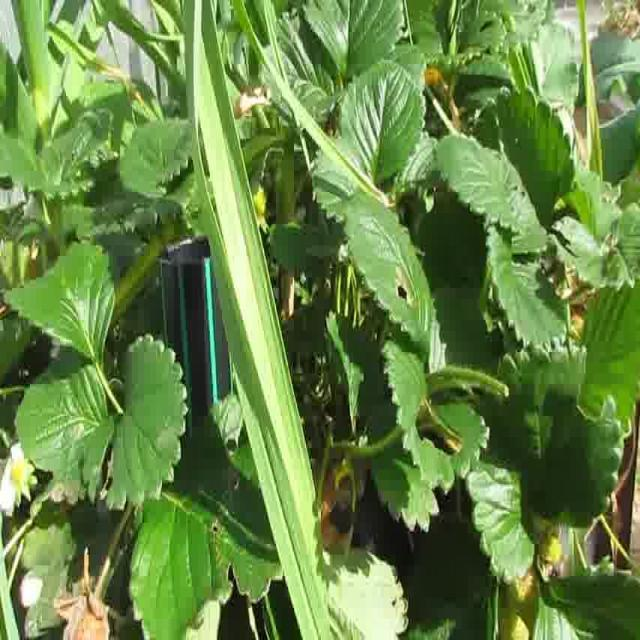Moho gris: (51, 570, 115, 640)
